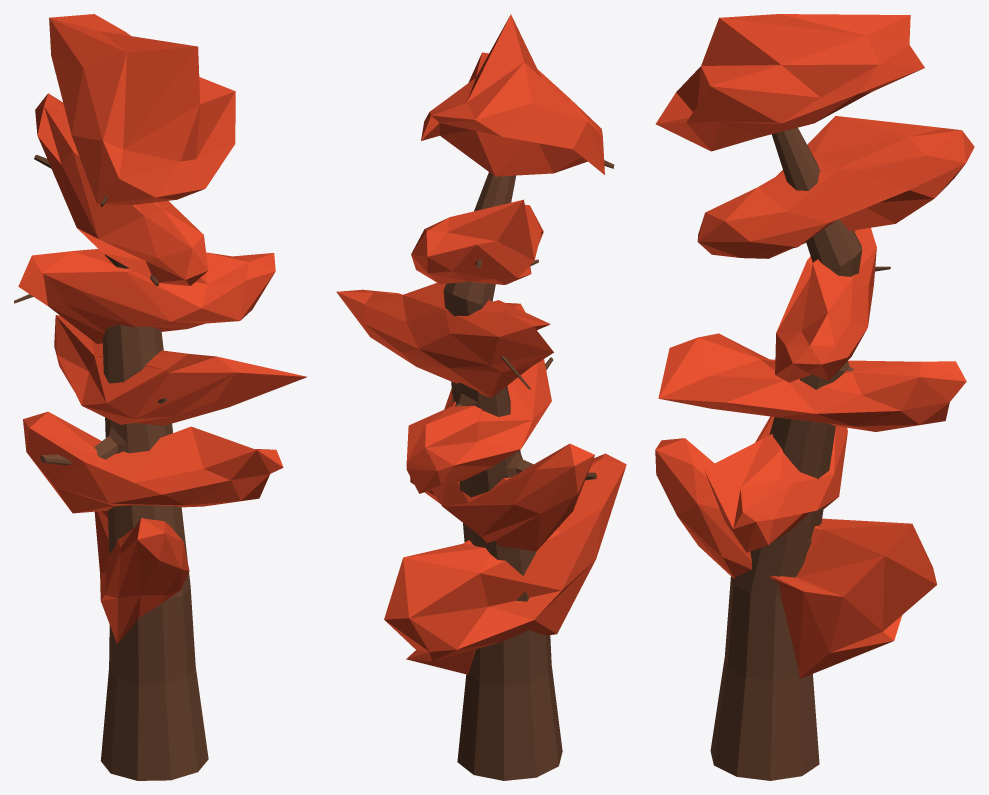
3 views of the same model, side by side, from view 1: azimuth 30°, elevation 25°; view 2: azimuth 150°, elevation 25°; view 3: azimuth 270°, elevation 25° (orthographic). The views are drawn at different scales.
Parts seen in each view (by area): view 1: t5-orange; view 2: t5-orange; view 3: t5-orange.
Part boxes in pixels (<box>): t5-orange: <box>14,14,306,780</box>; t5-orange: <box>336,14,626,780</box>; t5-orange: <box>655,14,974,780</box>.
Bounding box in the file's own units: 358 × 984 × 379.
